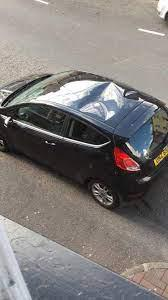roof-dent: (47, 70, 158, 129)
